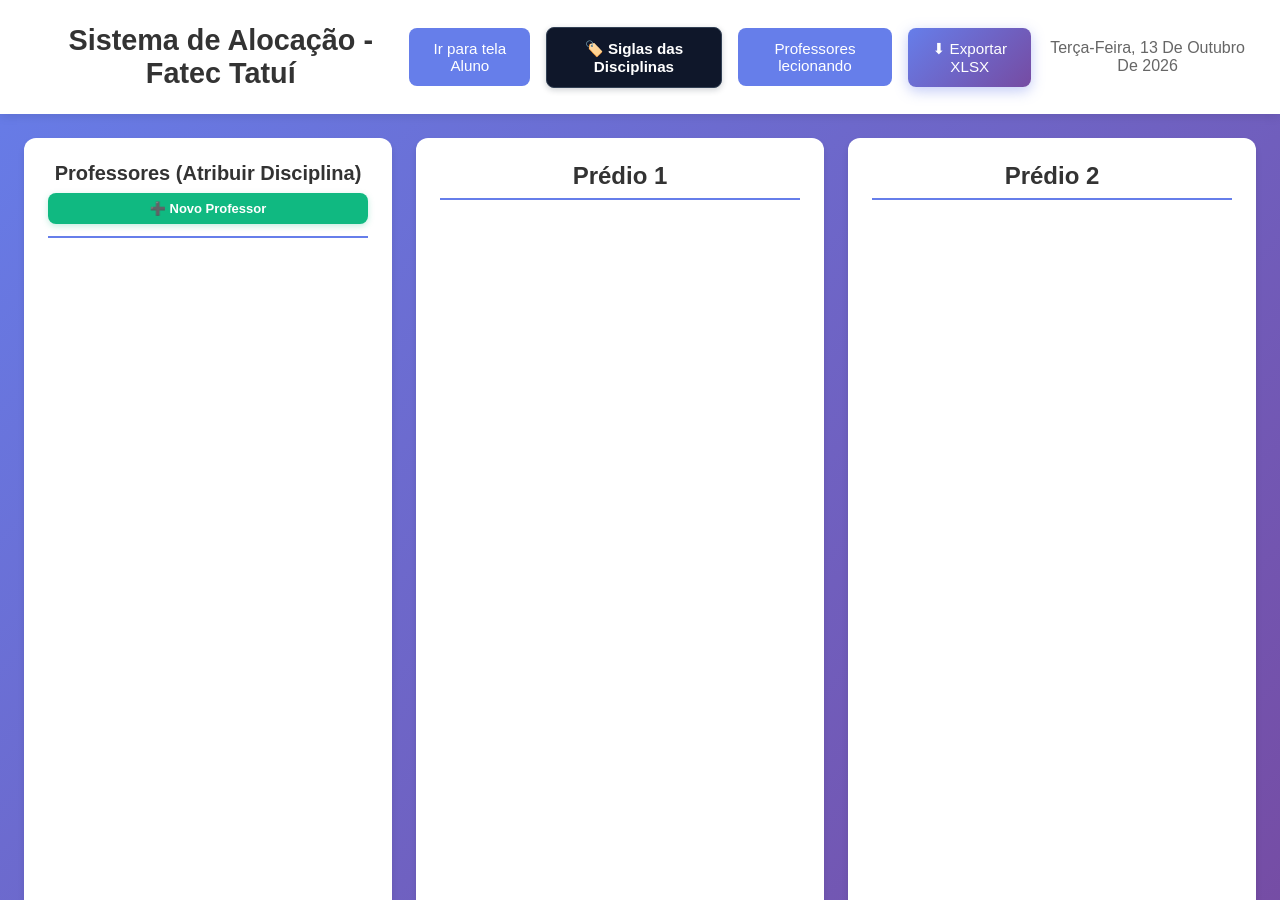
Test: navega do painel do diretor para a consulta do aluno
Expected: the heading "Sistema de Alocação - Fatec Tatuí" is shown, x1=68 y1=24 x2=373 y2=89
Click the button "Ir para tela Aluno" at (470, 57), box x1=410 y1=28 x2=530 y2=86
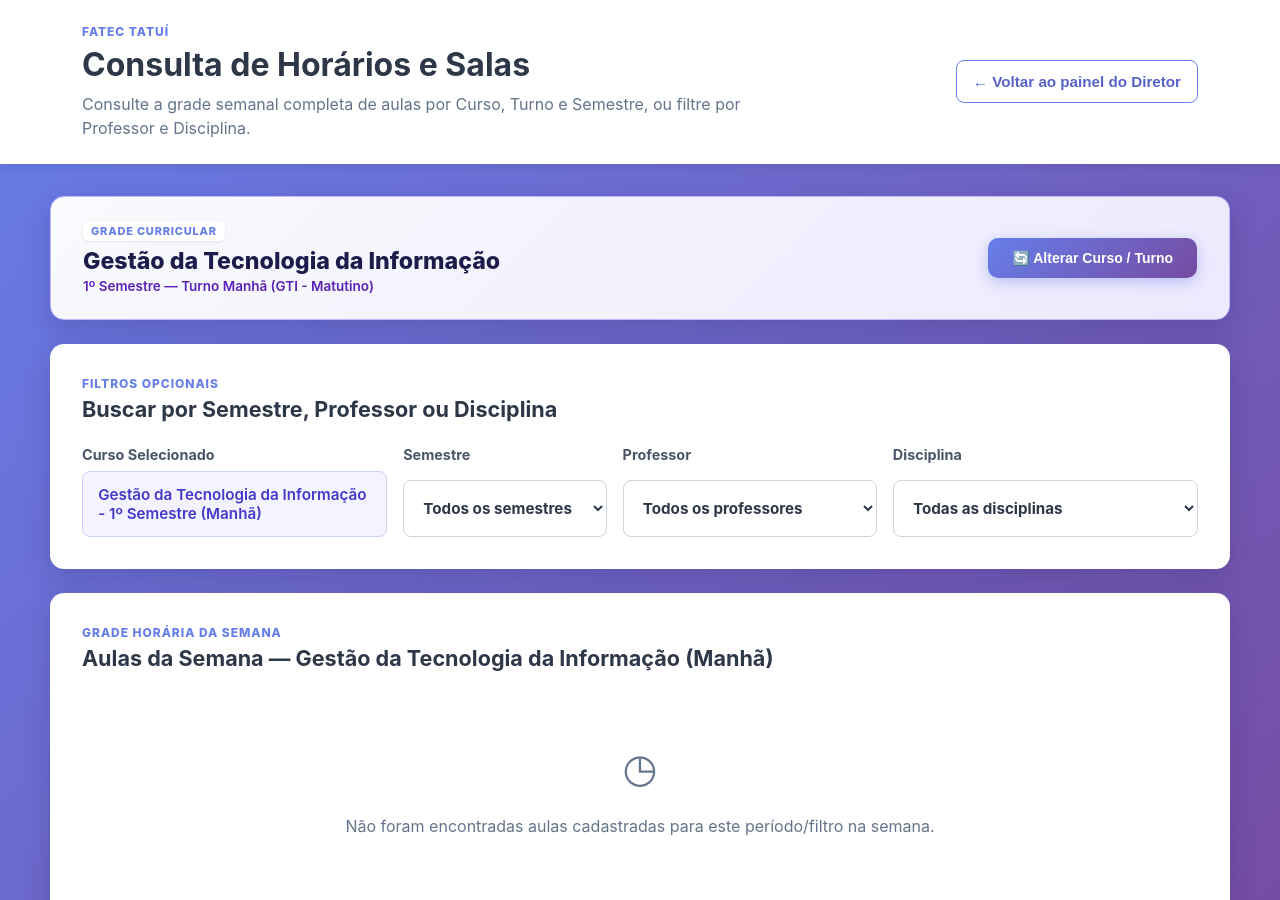
Result: the heading "Consulta de Horários e Salas" is shown at x1=82 y1=45 x2=530 y2=84
